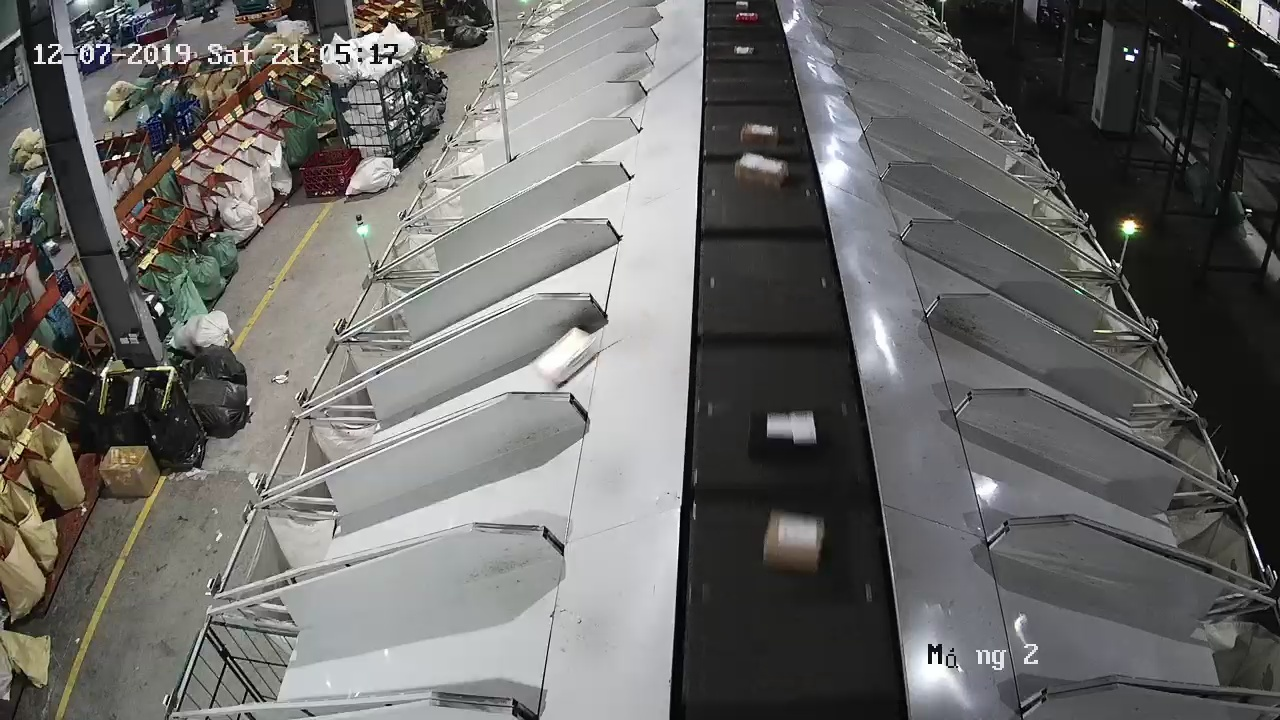parcel: (529, 326, 597, 388)
